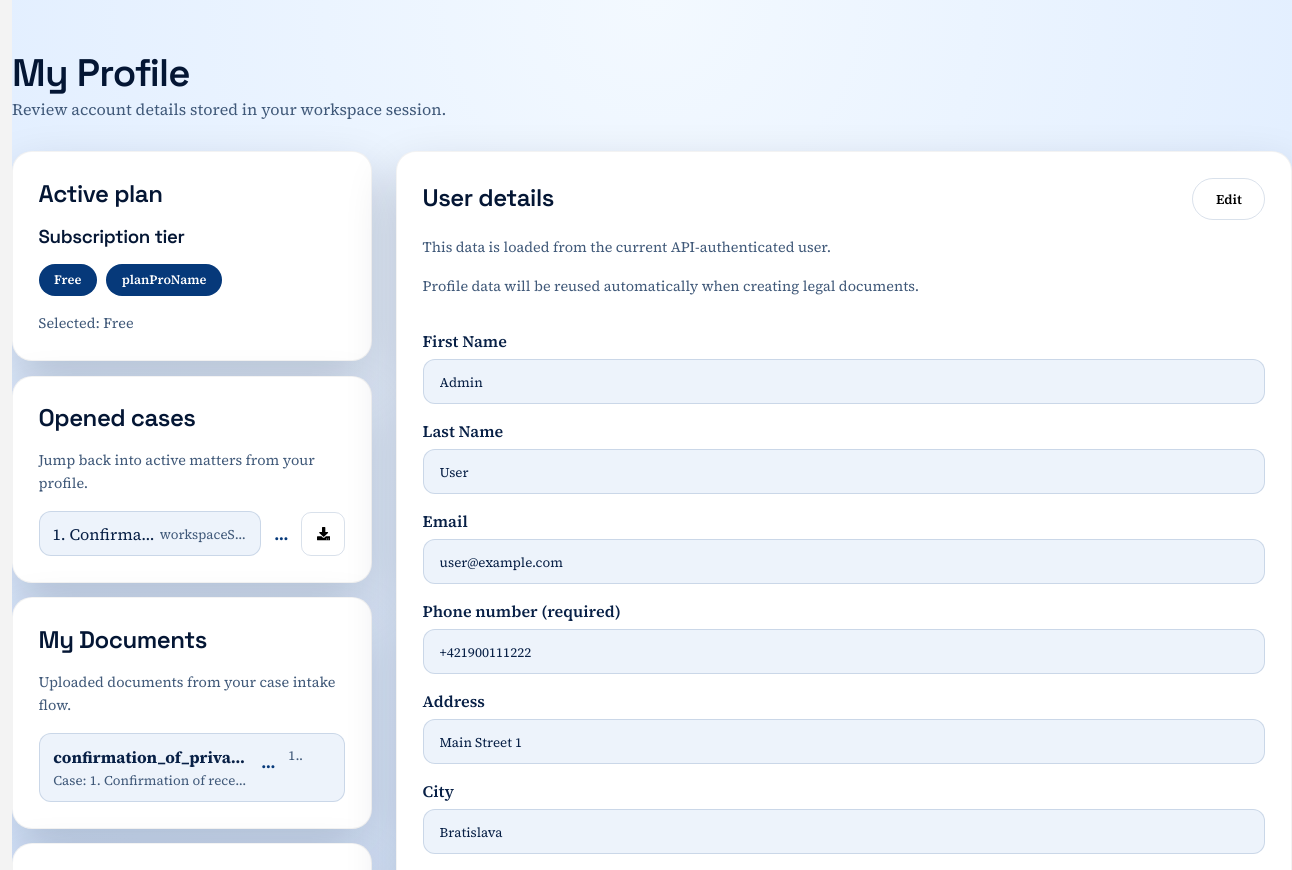
Profile page › shows case export errors beside the opened case list
This screenshot has width=1292, height=870.
Click the button named "Export case". click: (323, 534)
box: [301, 512, 345, 556]
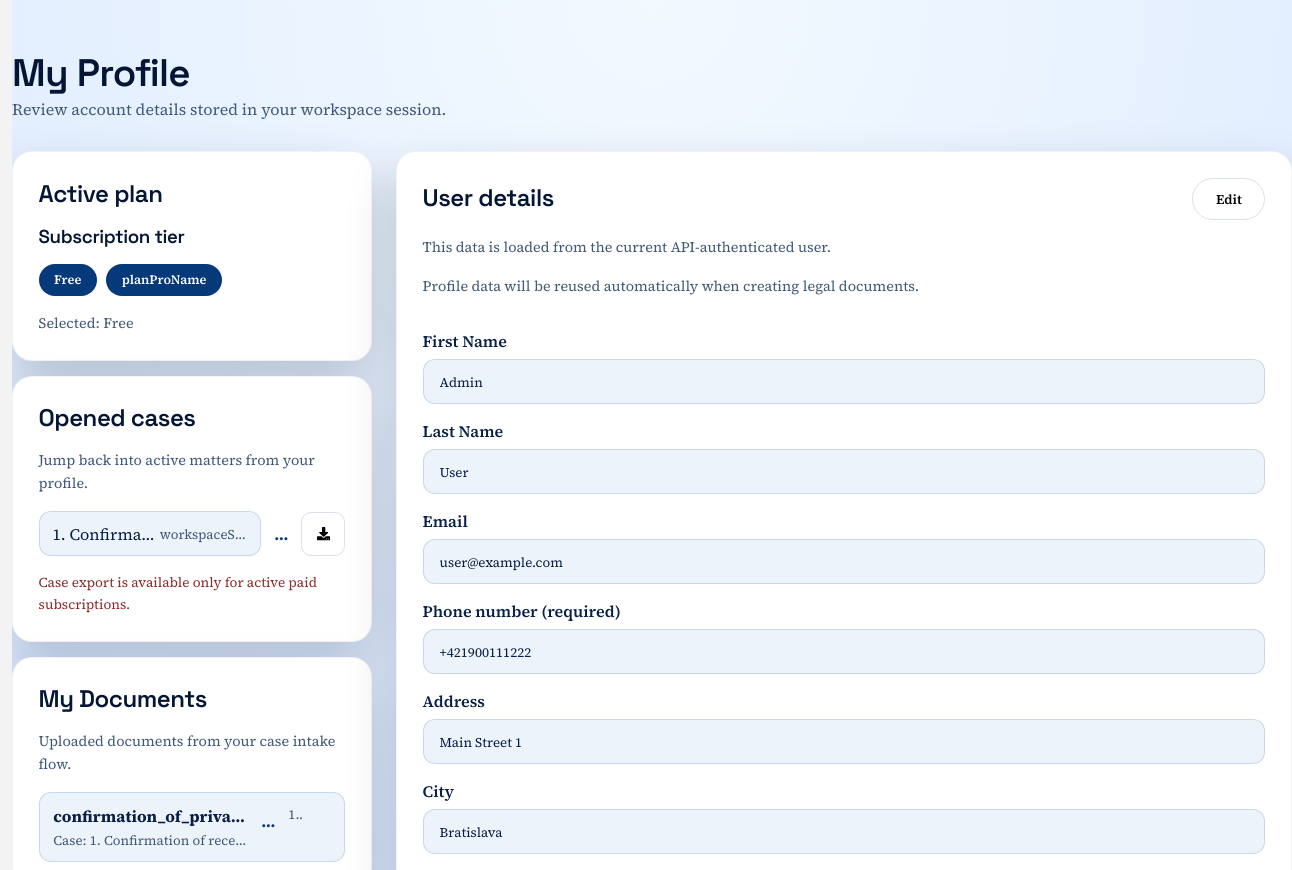
Result: the message reads "Case export is available only for active paid subscriptions." at [39, 573, 317, 614]
